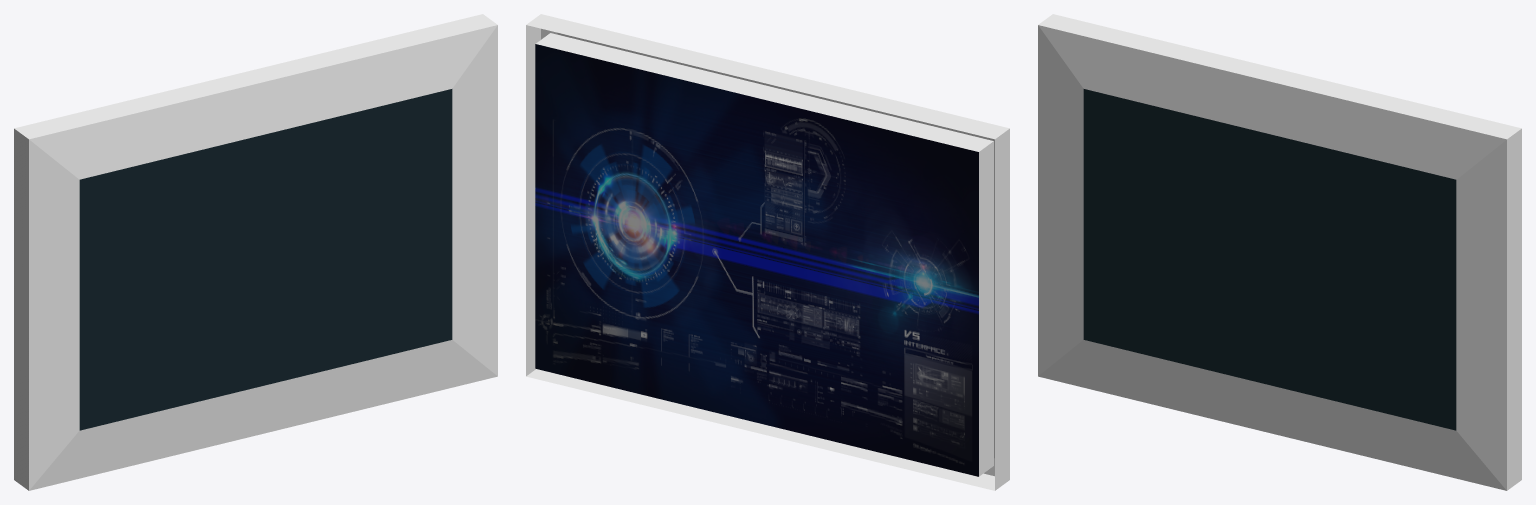
Rendered from ArmoireElectrique.FBX.
3 views of the same model, side by side, from view 1: azimuth 30°, elevation 25°; view 2: azimuth 150°, elevation 25°; view 3: azimuth 330°, elevation 25° (orthographic).
Parts seen in each view (by area): view 1: Box001; view 2: Box001; view 3: Box001.
Boxes of the visible parts, bbox=[...] form: Box001: bbox=[14, 14, 497, 490]; Box001: bbox=[526, 14, 1009, 490]; Box001: bbox=[1038, 14, 1521, 490].
Bounding box in the file's own units: 46.96 × 33.64 × 3.6.
